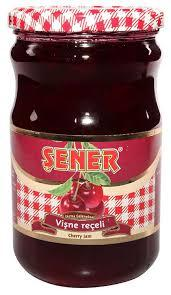jars: (8, 7, 163, 288)
